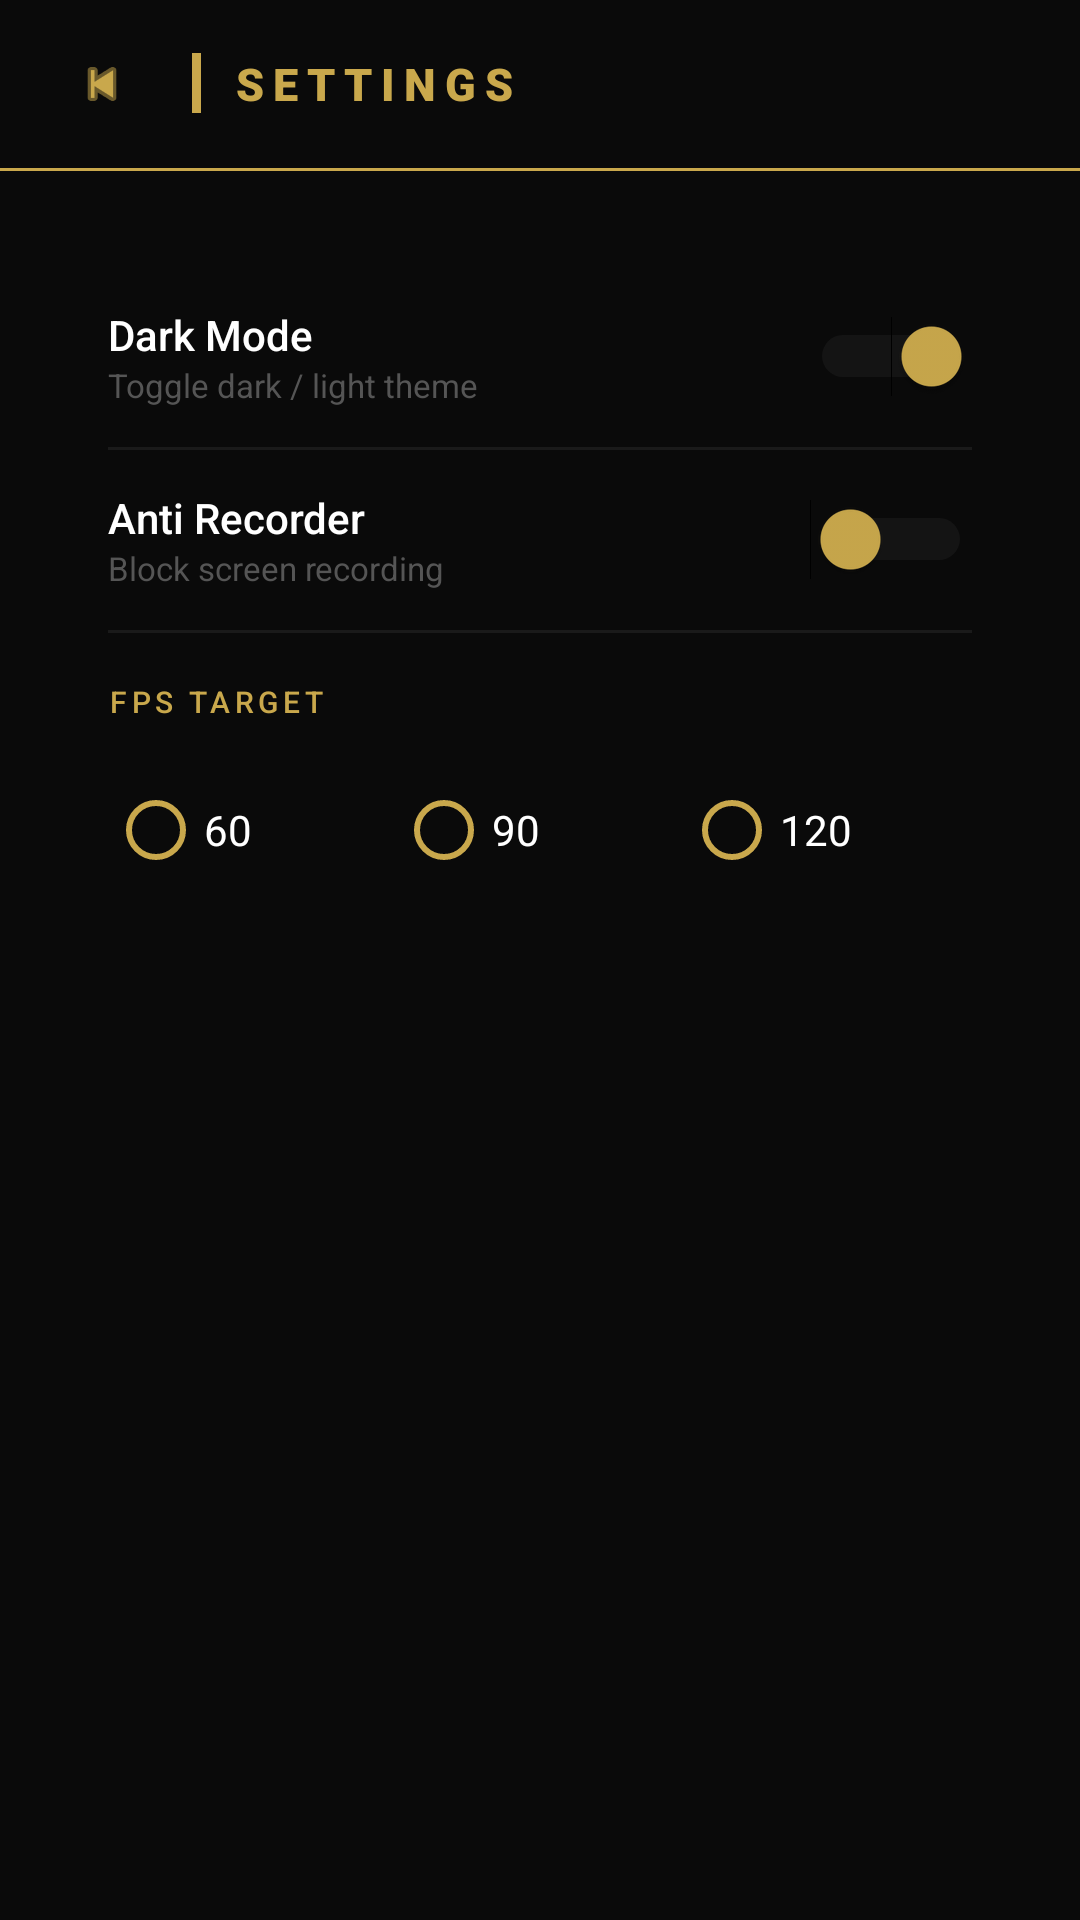

Screen size 1080 x 1920. Icon name, then its center in pixels as (x,y):
previous: (102,84)
